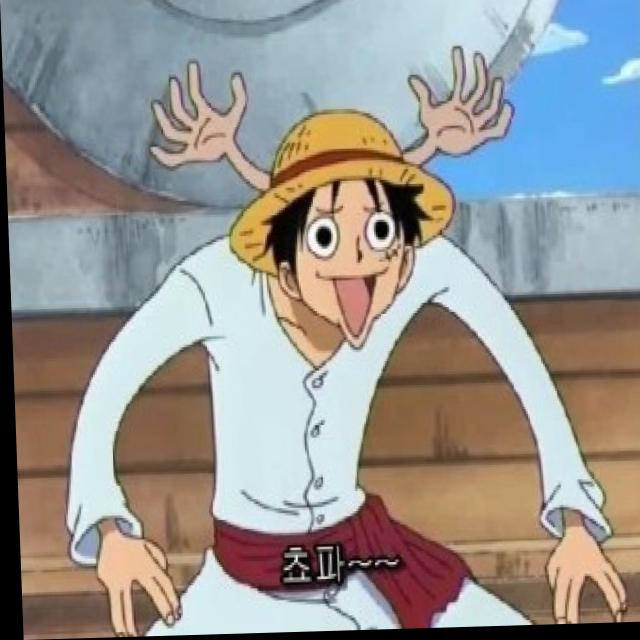Luffy: (231, 92, 436, 343)
